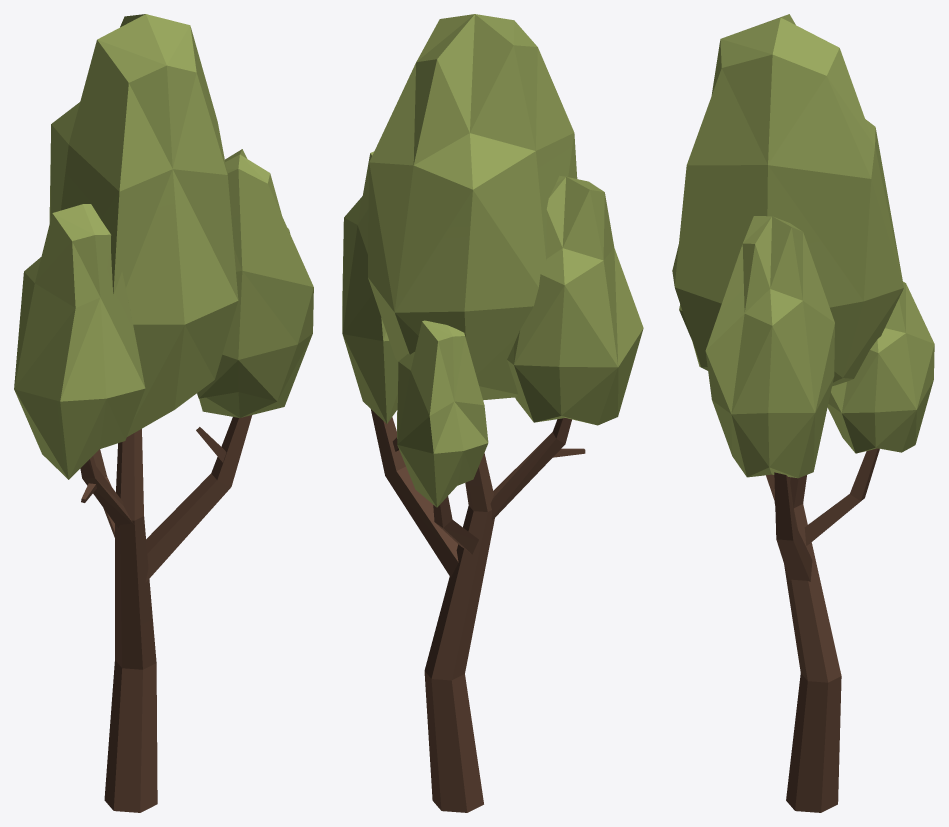
File: tree1.glb
3 views of the same model, side by side, from view 1: azimuth 30°, elevation 25°; view 2: azimuth 150°, elevation 25°; view 3: azimuth 270°, elevation 25° (orthographic). The views are drawn at different scales.
Parts seen in each view (by area): view 1: tree11; view 2: tree11; view 3: tree11.
Boxes of the visible parts, bbox=[...] form: tree11: bbox=[14, 14, 313, 812]; tree11: bbox=[342, 14, 643, 812]; tree11: bbox=[672, 14, 934, 812].
Bounding box in the file's own units: 2.44 × 6.61 × 2.
1 material, 1 textured.
